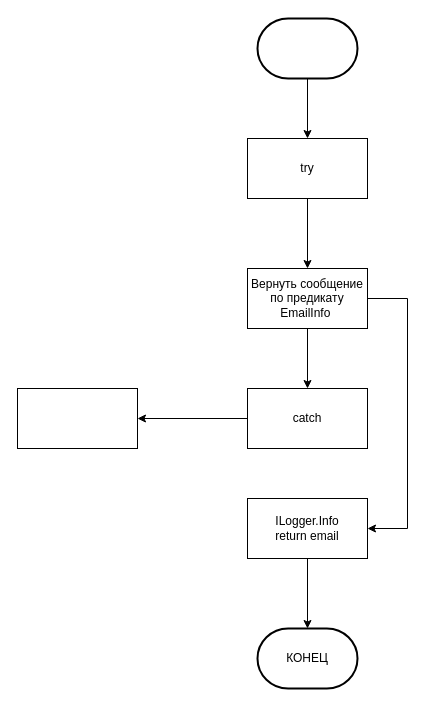
This 433x706 diagram has some shape labels left out. The centre of each missing label's shape, as x and y in pixels:
"ILogger.Error return NULL" belongs at pixel 77 418.
"НАЧАЛО" belongs at pixel 307 48.
